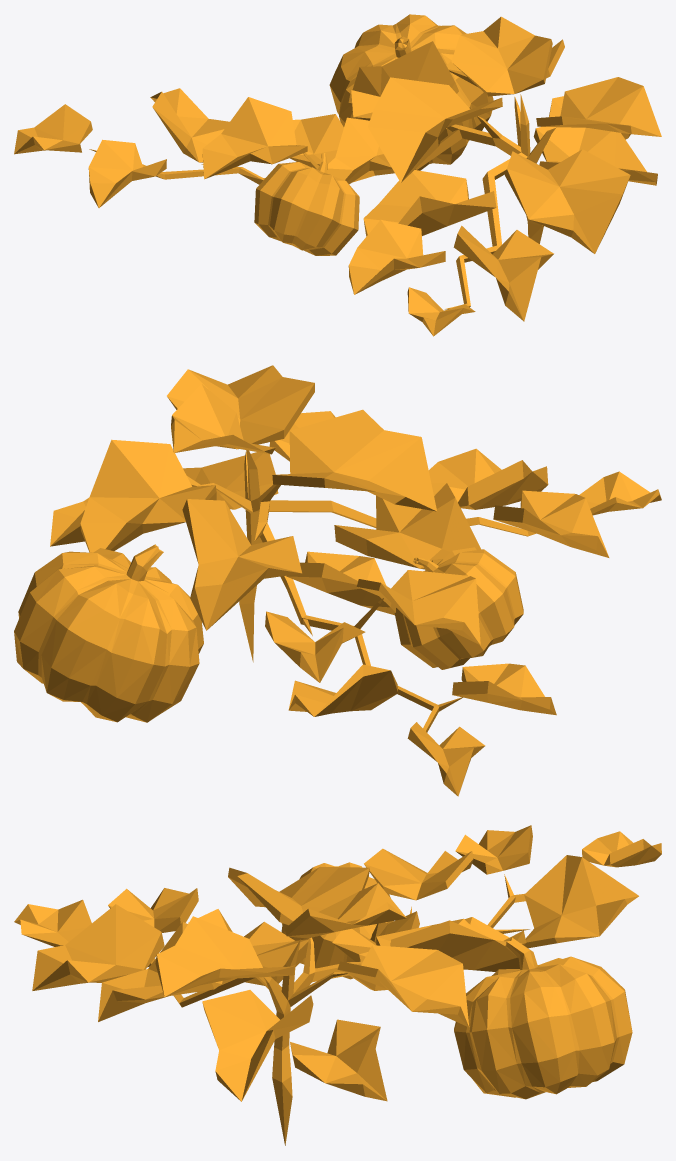
Rendered from SM_Pumpkin_Ripe_A.fbx.
3 renders of one model, top to bottom at view 1: azimuth 30°, elevation 25°; view 2: azimuth 150°, elevation 25°; view 3: azimuth 270°, elevation 25°, orthographic. The views are drawn at different scales.
Parts seen in each view (by area): view 1: pumpkin-ripe-a; view 2: pumpkin-ripe-a; view 3: pumpkin-ripe-a.
Part boxes in pixels (x1,y1,x2,y2): pumpkin-ripe-a: [14, 14, 661, 336]; pumpkin-ripe-a: [14, 365, 661, 796]; pumpkin-ripe-a: [14, 825, 661, 1145].
Bounding box in the file's own units: 1.3 × 0.6157 × 1.41.
